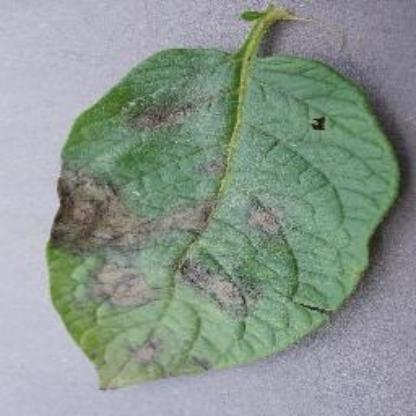Late-Blight: (32, 10, 402, 398)
